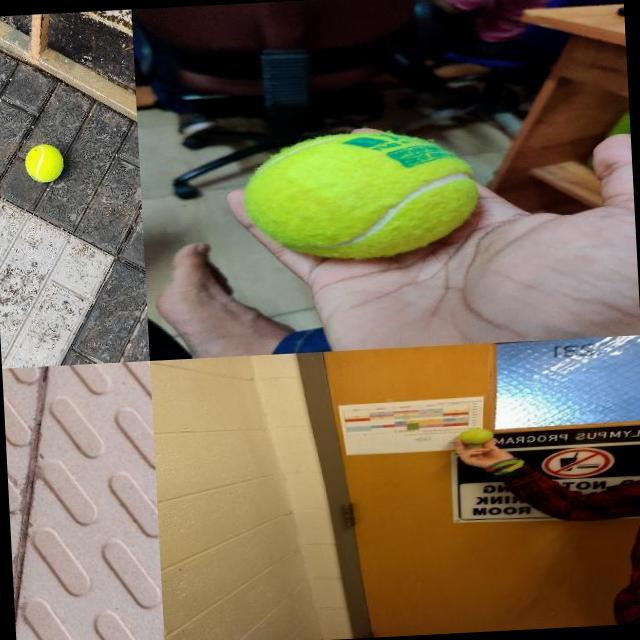Tennis Ball: (242, 128, 480, 262), (24, 143, 66, 183), (458, 428, 495, 445)
